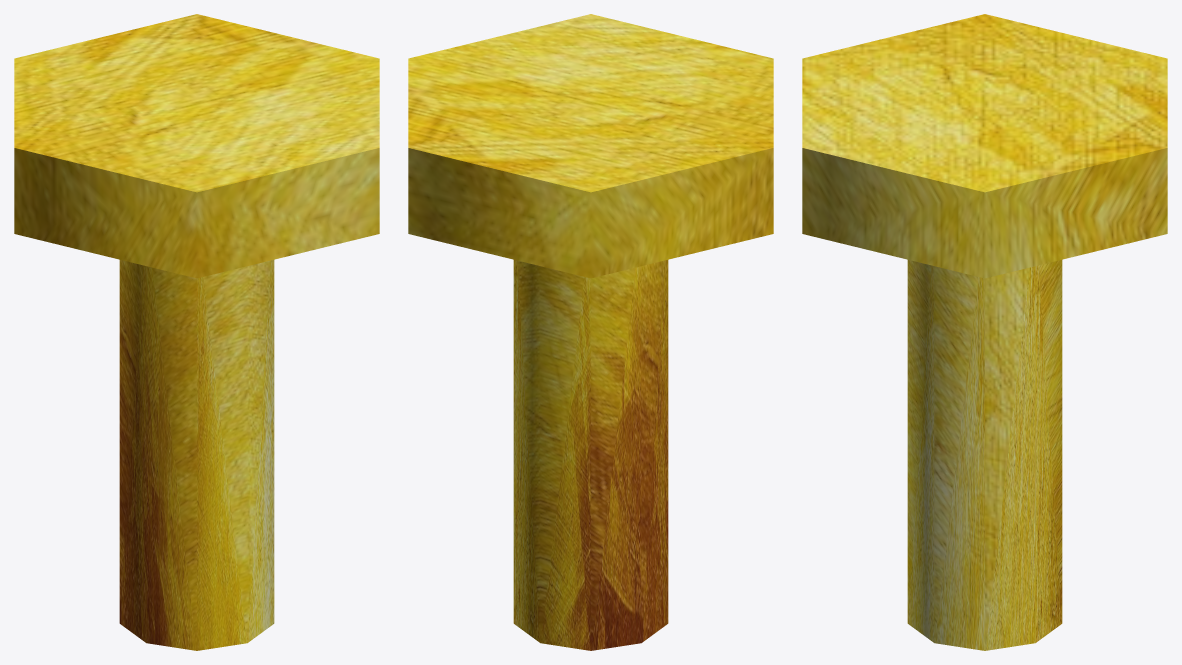
File: cargol.FBX
3 renders of one model, left to right at view 1: azimuth 30°, elevation 25°; view 2: azimuth 150°, elevation 25°; view 3: azimuth 270°, elevation 25°, orthographic.
Parts seen in each view (by area): view 1: Cylinder001; view 2: Cylinder001; view 3: Cylinder001.
Part boxes in pixels (bbox=[...]): Cylinder001: bbox=[14, 14, 379, 650]; Cylinder001: bbox=[408, 14, 773, 650]; Cylinder001: bbox=[802, 14, 1167, 650].
Bounding box in the file's own units: 15.75 × 21.18 × 13.64.
Materials: 1 (1 with a texture image).
